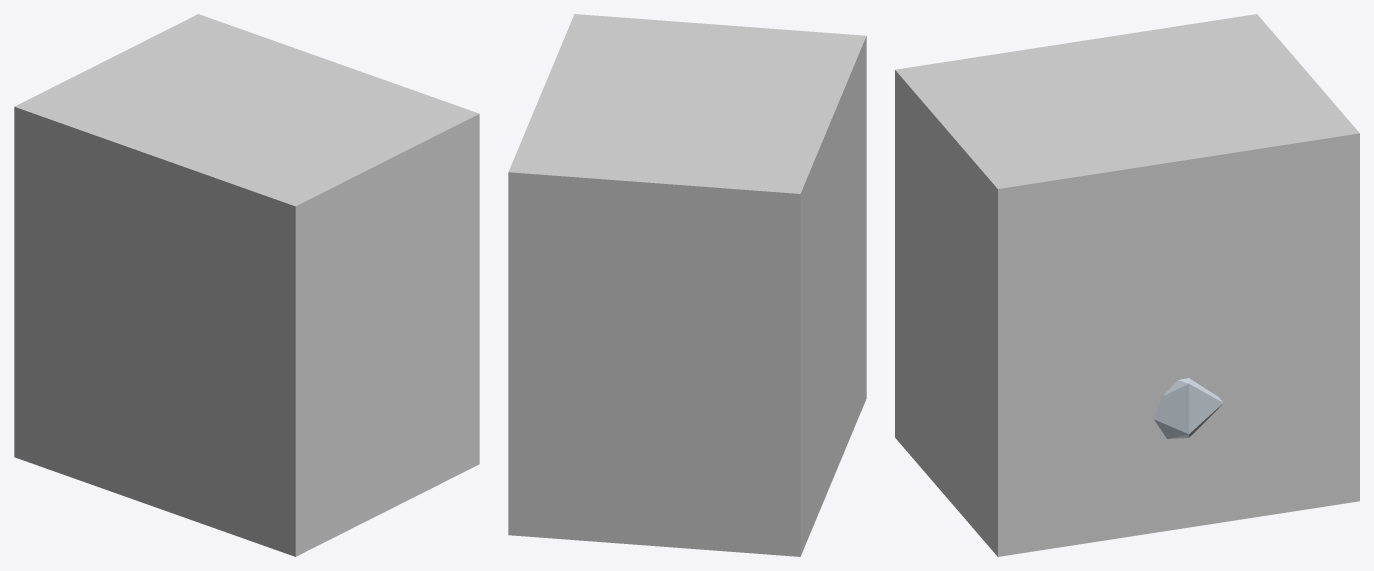
The model's file is tundra_pet1.fbx.
The picture shows the model from 3 angles, left to right: view 1: azimuth 30°, elevation 25°; view 2: azimuth 150°, elevation 25°; view 3: azimuth 270°, elevation 25°; orthographic projection. The views are drawn at different scales.
Parts seen in each view (by area): view 1: Root__0.00_0.47_0.01__0.70_0.95_0.90; view 2: Root__0.00_0.47_0.01__0.70_0.95_0.90; view 3: Root__0.00_0.47_0.01__0.70_0.95_0.90, WingL__Body__-0.25_0.36_0.03.
Boxes of the visible parts, <box> form: Root__0.00_0.47_0.01__0.70_0.95_0.90: <box>14,14,479,556</box>; Root__0.00_0.47_0.01__0.70_0.95_0.90: <box>508,14,866,556</box>; Root__0.00_0.47_0.01__0.70_0.95_0.90: <box>895,14,1359,556</box>; WingL__Body__-0.25_0.36_0.03: <box>1154,378,1222,438</box>.
Size of the model in its own units: 27.15 by 26.6 by 30.47.
1 material, 1 textured.
